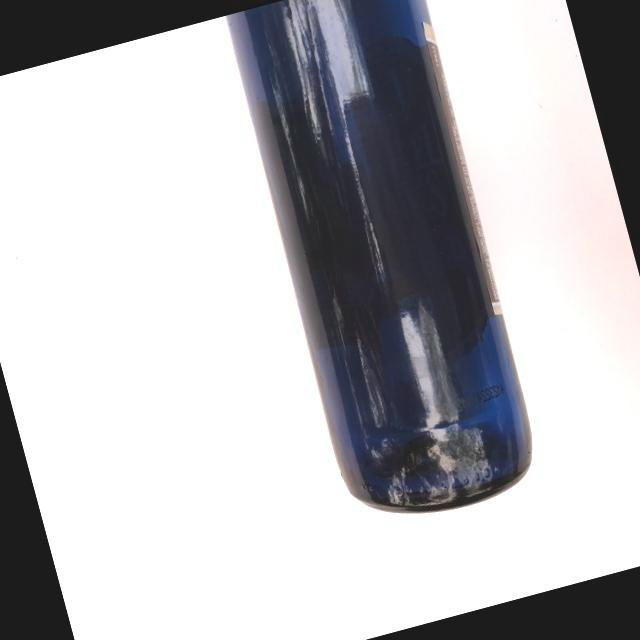glass: (210, 0, 573, 550)
